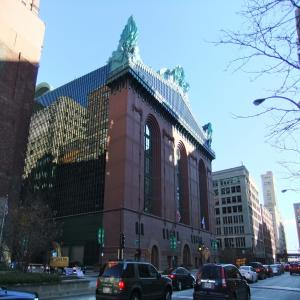Vehicle-registration-plate: (205, 282, 213, 292), (104, 289, 112, 295)
